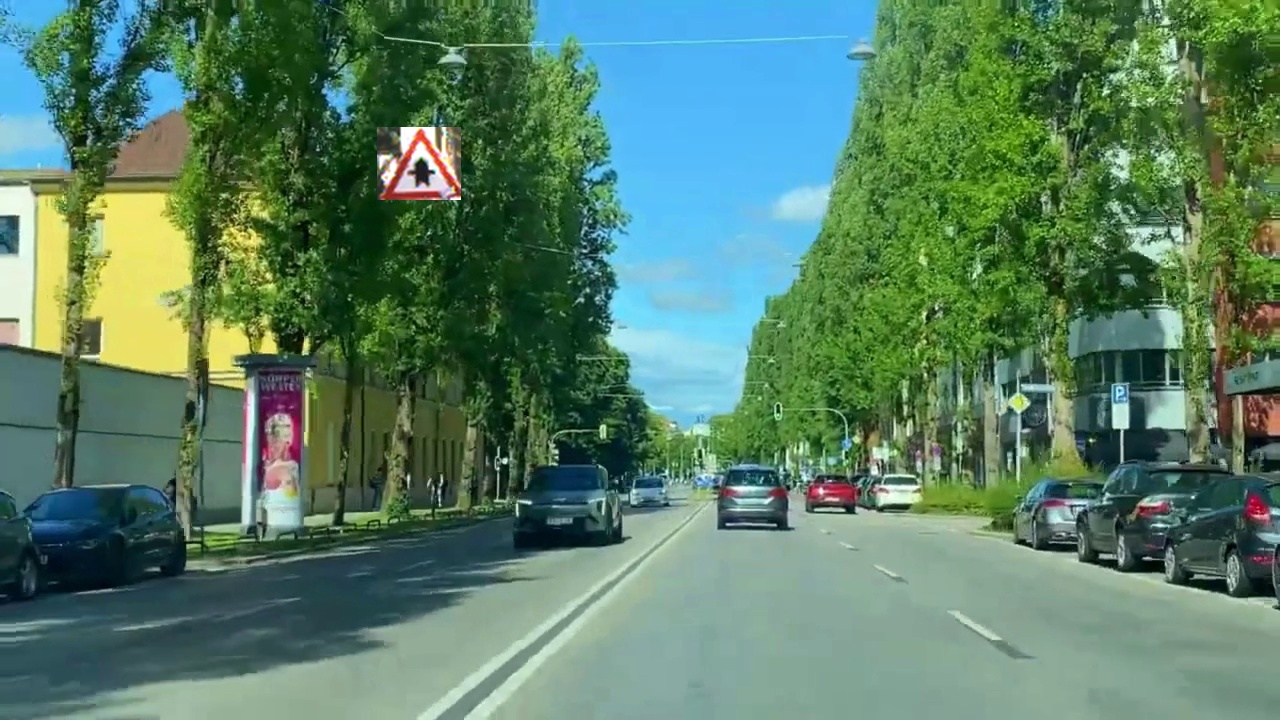Right-of-way: (377, 127, 461, 200)
